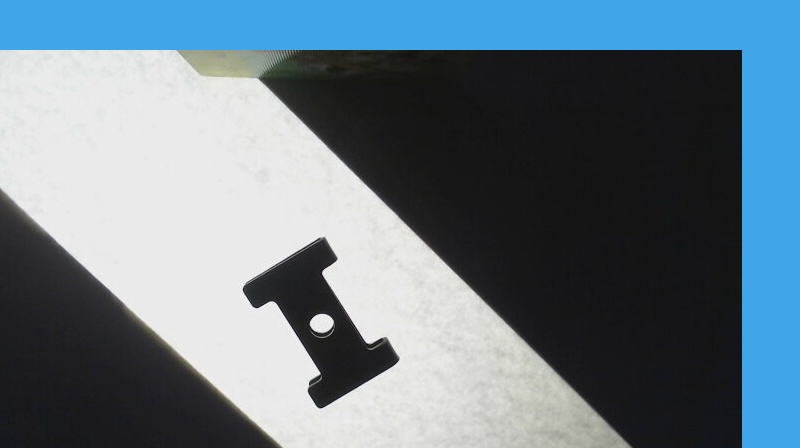O002: (238, 233, 403, 409)
